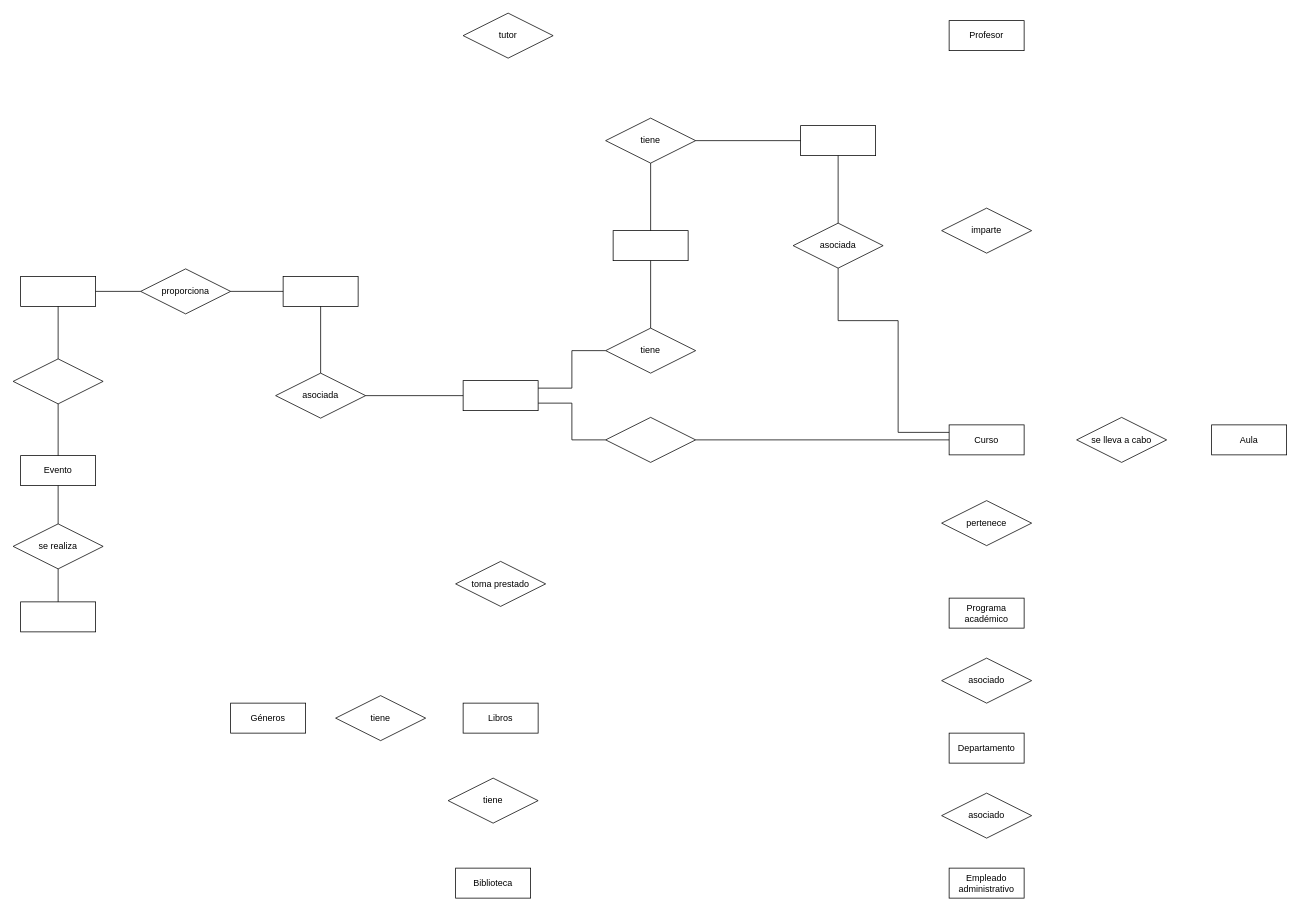
This 1300x911 diagram has some shape labels left out. Here are the shapes that lost their labels. From the top down, the centre of each, then its label:
the point at 838,140: Asignatura
the point at 650,245: Nota
the point at 58,291: Empresa asociada
the point at 320,291: Beca
the point at 57,381: patrocina
the point at 500,395: Estudiante
the point at 650,439: matriculado
the point at 58,616: Instalación deportiva
